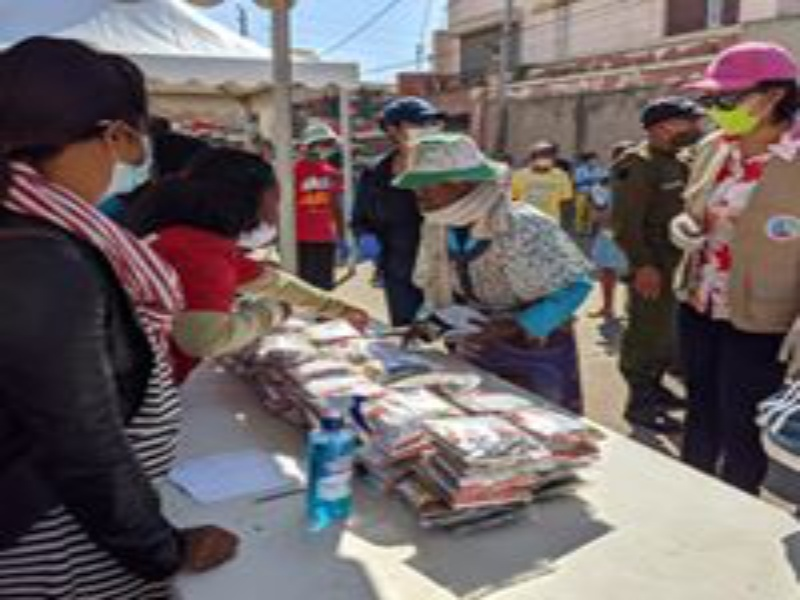ManaoArotava: (91, 52, 170, 223)
